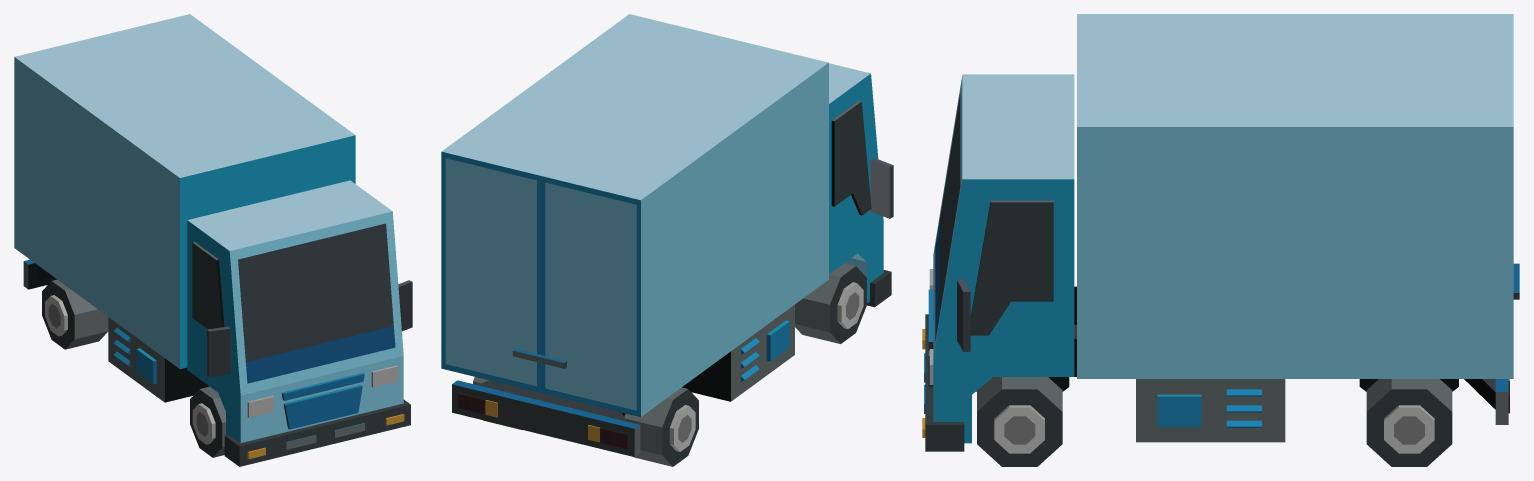
Rendered from TB_CITY_Car_Truck_B.FBX.
3 views of the same model, side by side, from view 1: azimuth 30°, elevation 25°; view 2: azimuth 150°, elevation 25°; view 3: azimuth 270°, elevation 25° (orthographic). The views are drawn at different scales.
Visible parts, largest first — view 1: TB_CITY_Car_Truck_B, TB_Car_Truck_Wheel008, TB_Car_Truck_Wheel005; view 2: TB_CITY_Car_Truck_B, TB_Car_Truck_Wheel005, TB_Car_Truck_Wheel008; view 3: TB_CITY_Car_Truck_B, TB_Car_Truck_Wheel007, TB_Car_Truck_Wheel006.
Part boxes in pixels (x1=…): TB_CITY_Car_Truck_B: x1=14, y1=14, x2=412, y2=466; TB_Car_Truck_Wheel008: x1=42, y1=279, x2=108, y2=349; TB_Car_Truck_Wheel005: x1=190, y1=386, x2=225, y2=457; TB_CITY_Car_Truck_B: x1=441, y1=14, x2=893, y2=457; TB_Car_Truck_Wheel005: x1=795, y1=263, x2=866, y2=343; TB_Car_Truck_Wheel008: x1=624, y1=387, x2=698, y2=466; TB_CITY_Car_Truck_B: x1=922, y1=14, x2=1519, y2=451; TB_Car_Truck_Wheel007: x1=977, y1=377, x2=1062, y2=466; TB_Car_Truck_Wheel006: x1=1366, y1=379, x2=1452, y2=466.
Size of the model in its own units: 4.17 by 5.09 by 8.03.
